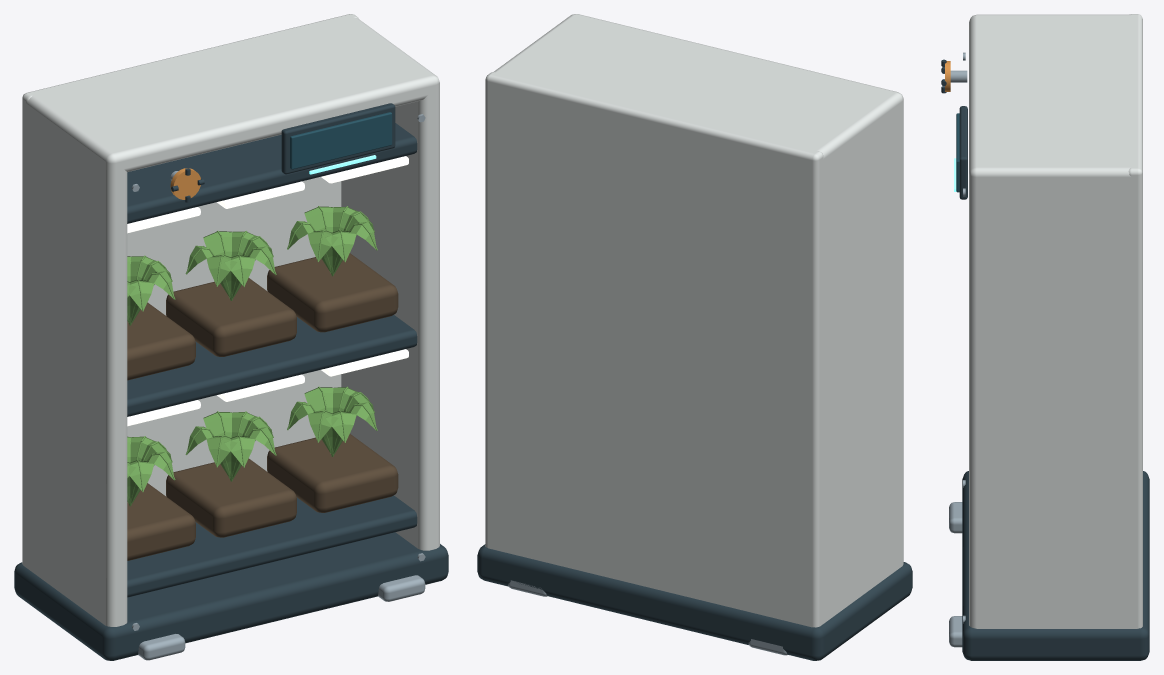
Rendered from Greenhouse.glb.
The picture shows the model from 3 angles, left to right: view 1: azimuth 30°, elevation 25°; view 2: azimuth 150°, elevation 25°; view 3: azimuth 270°, elevation 25°; orthographic projection. The views are drawn at different scales.
Parts seen in each view (by area): view 1: Structural upright (×2), Removable root pillow (×6), Top cap, Recessed tray shelf (×3), Equipment plinth, Insulated back, Edible leaf (×8), Horticulture LED (×6), Blank display, Control bezel, Mounting foot (×2), Valve knob; view 2: Insulated back, Structural upright (×2), Top cap, Equipment plinth; view 3: Structural upright (×2), Top cap, Equipment plinth, Insulated back, Mounting foot (×2), Control bezel.
Part boxes in pixels (x1,y1,x2,y2): Structural upright (×2): (24,17,439,626); Removable root pillow (×6): (127,253,398,560); Top cap: (26,17,439,171); Recessed tray shelf (×3): (127,123,417,597); Equipment plinth: (14,532,448,660); Insulated back: (22,14,358,567); Edible leaf (×8): (206,230,356,478); Horticulture LED (×6): (127,156,408,426); Blank display: (290,112,392,169); Control bezel: (281,103,395,174); Mounting foot (×2): (138,575,425,660); Valve knob: (170,168,200,199); Insulated back: (485,72,823,627); Structural upright (×2): (490,14,903,626); Top cap: (490,14,903,167); Equipment plinth: (477,544,912,660); Structural upright (×2): (969,14,1135,628); Top cap: (969,15,1135,184); Equipment plinth: (962,471,1149,660); Insulated back: (1128,14,1142,628); Mounting foot (×2): (949,502,962,647); Control bezel: (959,106,967,199).
Bounding box in the file's own units: 1.16 × 1.62 × 0.623.
